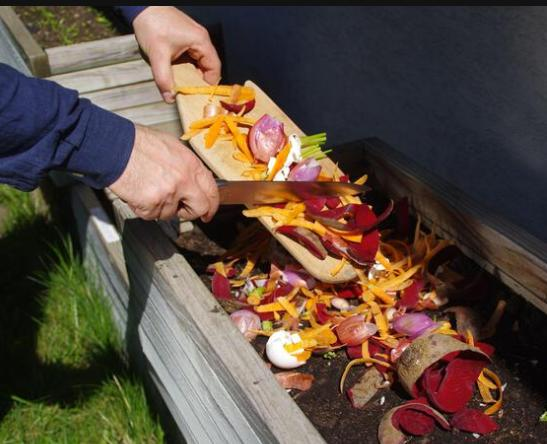organic: (344, 326, 499, 438), (314, 197, 390, 232), (245, 110, 291, 163), (339, 356, 395, 396), (365, 261, 421, 292), (443, 305, 488, 342), (341, 229, 381, 266), (392, 312, 444, 339), (334, 315, 379, 346), (292, 184, 337, 210), (280, 218, 334, 237), (272, 370, 315, 392), (274, 269, 316, 291), (229, 309, 262, 336), (242, 206, 301, 221), (220, 98, 255, 116), (242, 277, 269, 300), (212, 270, 232, 301), (390, 339, 413, 364), (205, 263, 234, 275), (294, 296, 309, 317), (203, 102, 221, 119), (390, 304, 407, 322), (330, 297, 351, 311), (343, 313, 367, 325)
